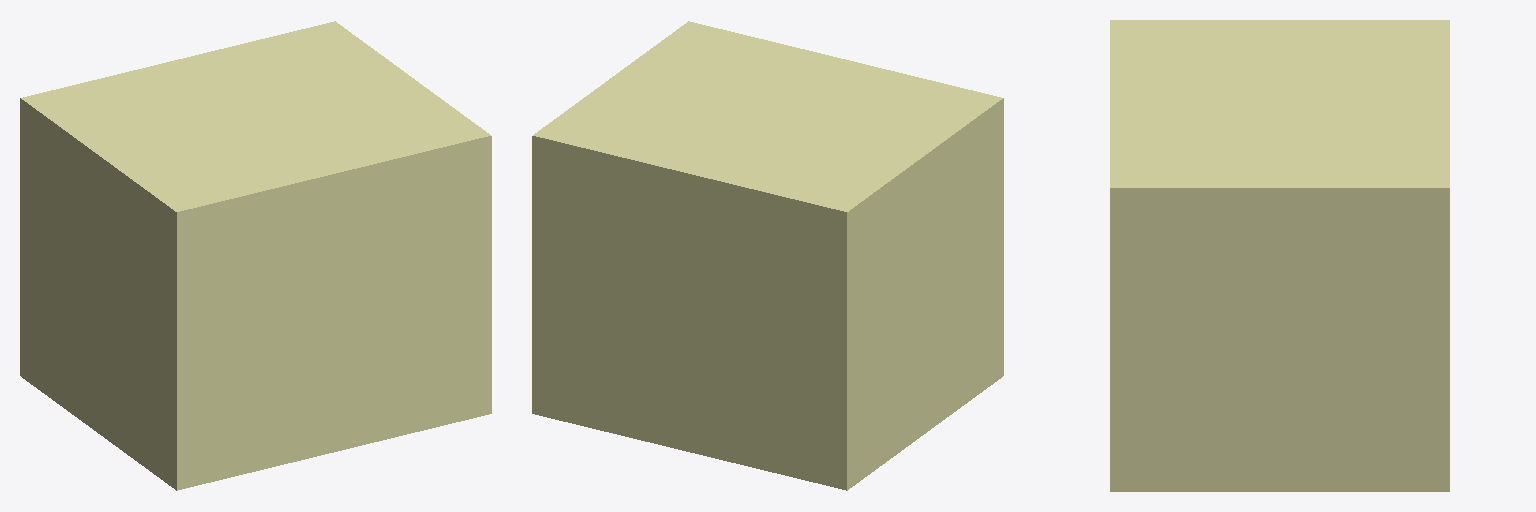
The robot description file, URDF, robot "box.urdf":
<?xml version="1.0" ?>
<robot name="box.urdf">
  <link name="baseLink">
    <contact>
      <lateral_friction value="1.0"/>
      <rolling_friction value="0.0001"/>
      <inertia_scaling value="3.0"/>
    </contact>
    <inertial>
      <origin rpy="0 0 0" xyz="0 0 0"/>
       <mass value="0.1"/>
       <inertia ixx="1" ixy="0" ixz="0" iyy="1" iyz="0" izz="1"/>
    </inertial>
    <visual>
      <origin rpy="0 0 0" xyz="0 0 0"/>
      <geometry>
        <!-- <box size="0.419 0.36 0.354"/> -->
        <mesh filename="box/box.obj" scale="0.419 0.36 0.354"/>
      </geometry>
      <material name="white">
        <color rgba="0.9 0.9 0.7 1"/>
      </material>
    </visual>
    <collision>
      <origin rpy="0 0 0" xyz="0 0 0"/>
      <geometry>
        <mesh filename="box/box.obj" scale="0.419 0.36 0.354"/>
	 	    <!-- <box size="0.419 0.36 0.354"/> -->
      </geometry>
    </collision>
  </link>
</robot>

--- What the picture shows (computed from the rendered views, not written in the file) ---
Views: 3 orthographic renders of the robot side by side, from view 1: azimuth 30°, elevation 25°; view 2: azimuth 150°, elevation 25°; view 3: azimuth 270°, elevation 25°.
Model box.urdf with 1 links and 0 joints (none), rooted at baseLink, posed every joint at zero.
Visible links, largest first — view 1: baseLink; view 2: baseLink; view 3: baseLink.
Link boxes in pixels (x1,y1,x2,y2): baseLink: [20, 21, 491, 490]; baseLink: [532, 21, 1003, 490]; baseLink: [1110, 20, 1449, 491].
Size in the robot's own frame: 0.419 by 0.36 by 0.354 metres.
1 mesh visuals loaded from 1 distinct referenced files (1 OBJ).
